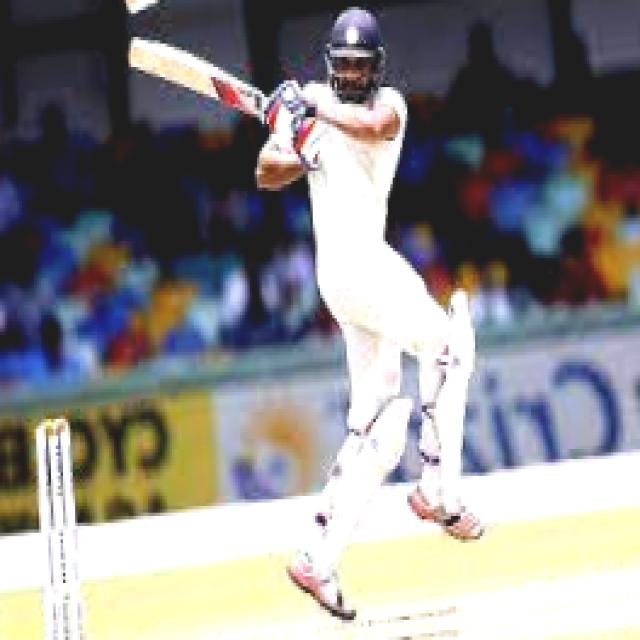toe: (123, 35, 153, 71)
